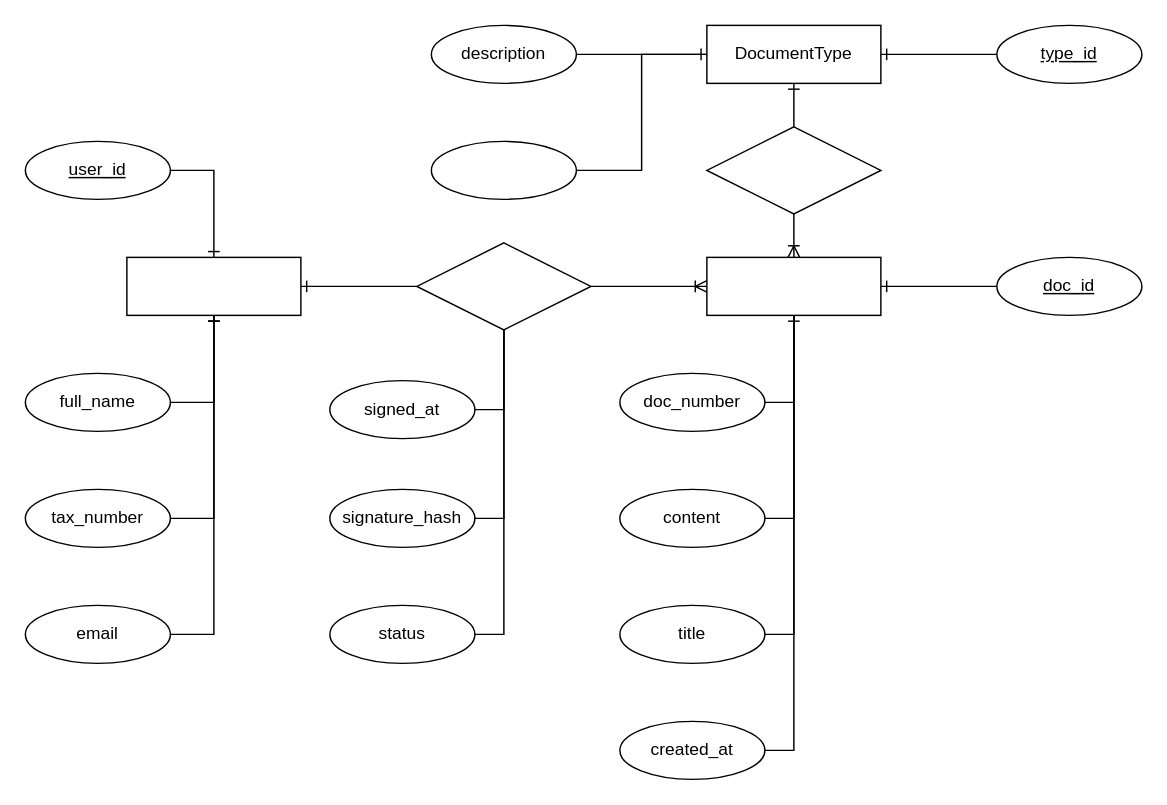
Some shapes in this 1167 by 805 pixel diagram are drawn without their labels. Each missing label, with the box of its shape:
Categorizes: (705, 125, 881, 214)
Document: (705, 256, 881, 315)
name: (430, 140, 576, 199)
Signs: (415, 241, 591, 330)
Users: (125, 256, 301, 315)
